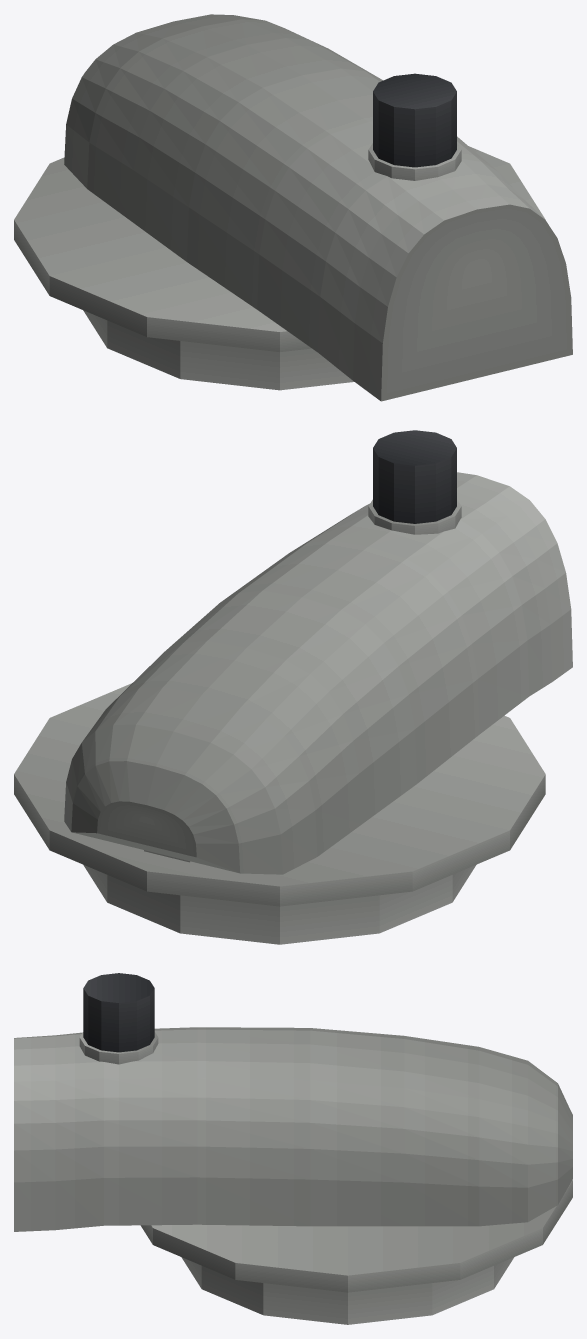
The model's file is streetlight_whov50shaded.obj.
3 views of the same model, one above another, from view 1: azimuth 30°, elevation 25°; view 2: azimuth 150°, elevation 25°; view 3: azimuth 270°, elevation 25° (orthographic). The views are drawn at different scales.
Visible parts, largest first — view 1: fixture; view 2: fixture; view 3: fixture.
Part boxes in pixels (x1,y1,x2,y2): fixture: [14, 14, 572, 401]; fixture: [14, 430, 572, 944]; fixture: [14, 973, 572, 1324].
Size of the model in its own units: 0.75 by 0.5317 by 0.9312.
